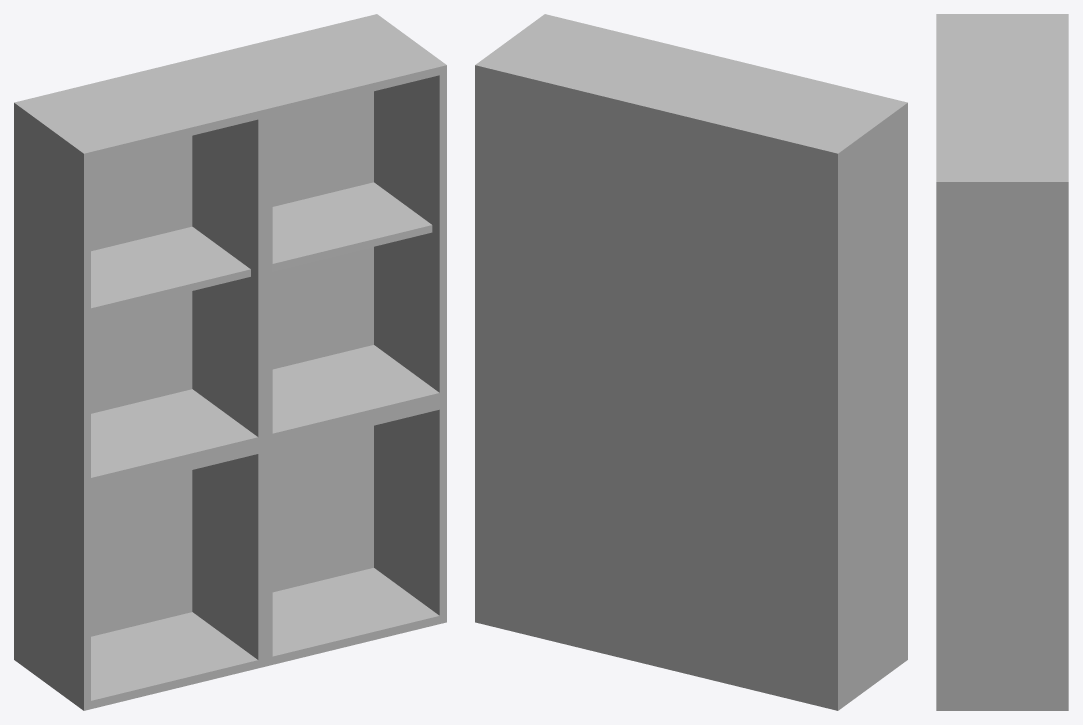
The model's file is SM_Int_Cabinet01_1_Cabinet.obj.
The picture shows the model from 3 angles, left to right: view 1: azimuth 30°, elevation 25°; view 2: azimuth 150°, elevation 25°; view 3: azimuth 270°, elevation 25°; orthographic projection. The views are drawn at different scales.
Parts seen in each view (by area): view 1: SM_Int_Cabinet01_1_Cabinet_MI_AtlasSchool01A; view 2: SM_Int_Cabinet01_1_Cabinet_MI_AtlasSchool01A; view 3: SM_Int_Cabinet01_1_Cabinet_MI_AtlasSchool01A.
Part boxes in pixels (x1,y1,x2,y2): SM_Int_Cabinet01_1_Cabinet_MI_AtlasSchool01A: (14, 14, 446, 710); SM_Int_Cabinet01_1_Cabinet_MI_AtlasSchool01A: (475, 14, 907, 710); SM_Int_Cabinet01_1_Cabinet_MI_AtlasSchool01A: (936, 14, 1068, 710).
Size of the model in its own units: 1.5 by 2.2 by 0.5.
1 material, 1 textured.
